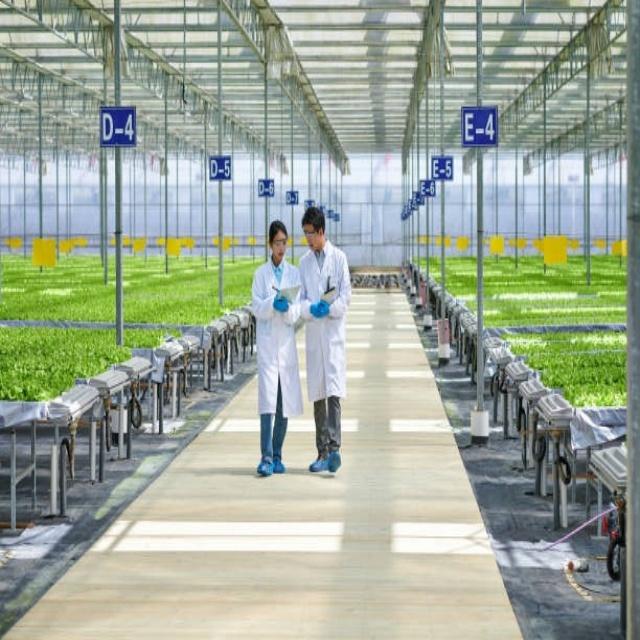Gafas: (303, 228, 318, 238), (272, 238, 288, 245)
Guantes: (310, 301, 329, 318), (273, 295, 288, 312)
